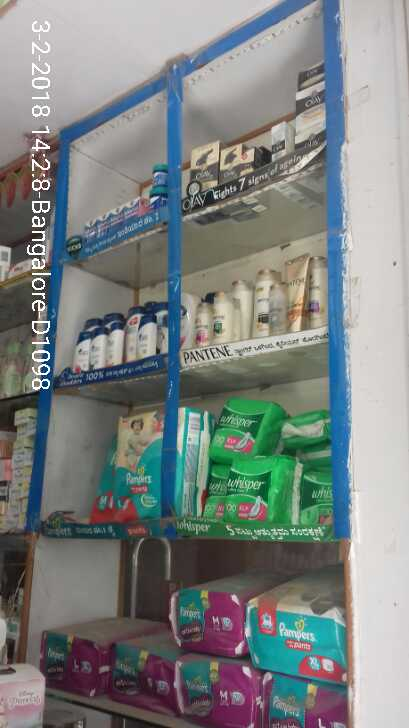vicks: (81, 163, 172, 251)
